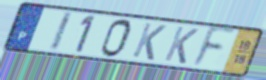0: (99, 18, 135, 59)
1: (75, 14, 96, 54)
F: (189, 25, 238, 70)
I: (47, 10, 75, 53)
K: (162, 25, 201, 66), (130, 21, 169, 62)
